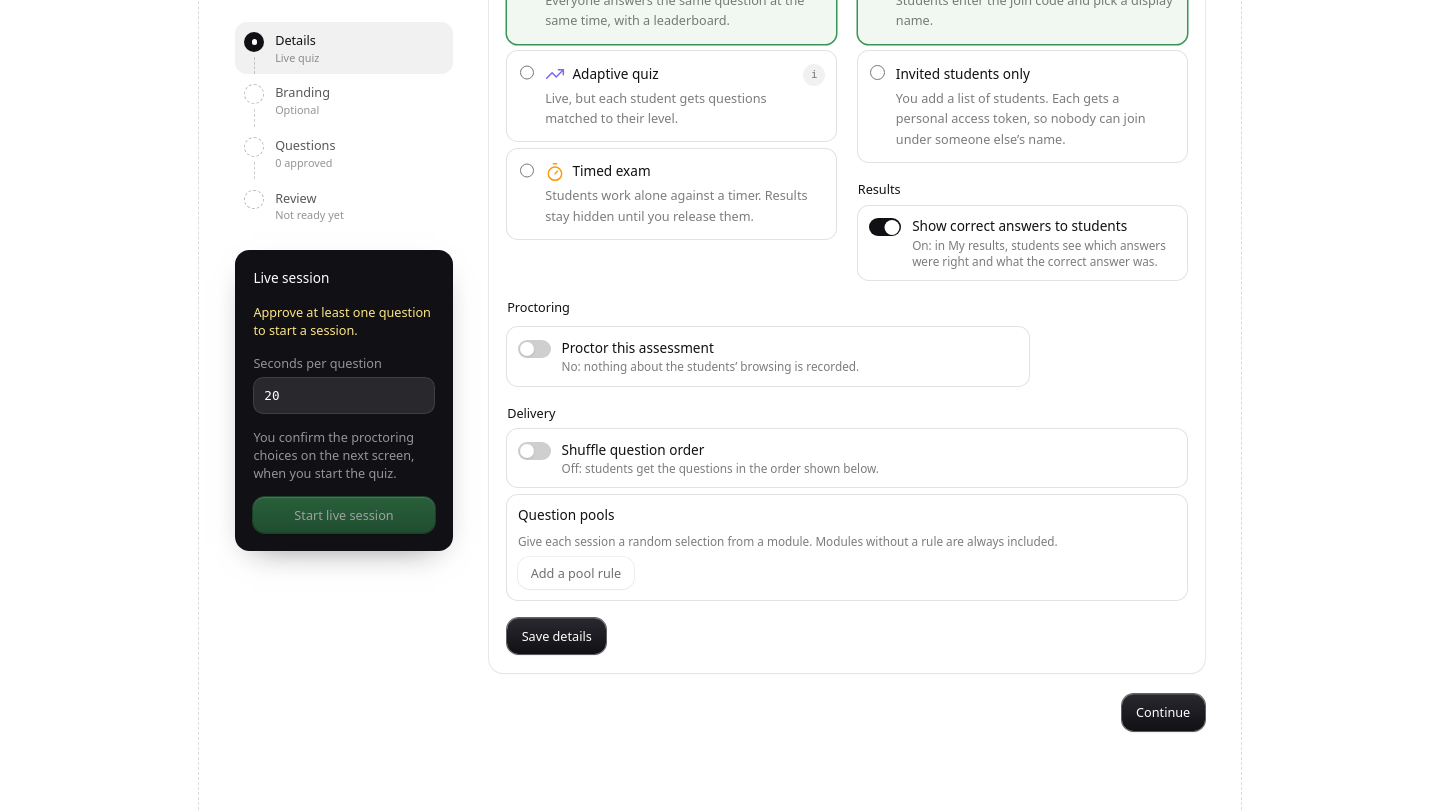
QuizEditor › walks a new quiz through the steps and ends on a review of everything
(page scrolled)
Click the button "Continue" at x=1163, y=712, box top-left (1122, 694), bottom-right (1205, 731)
(page scrolled)
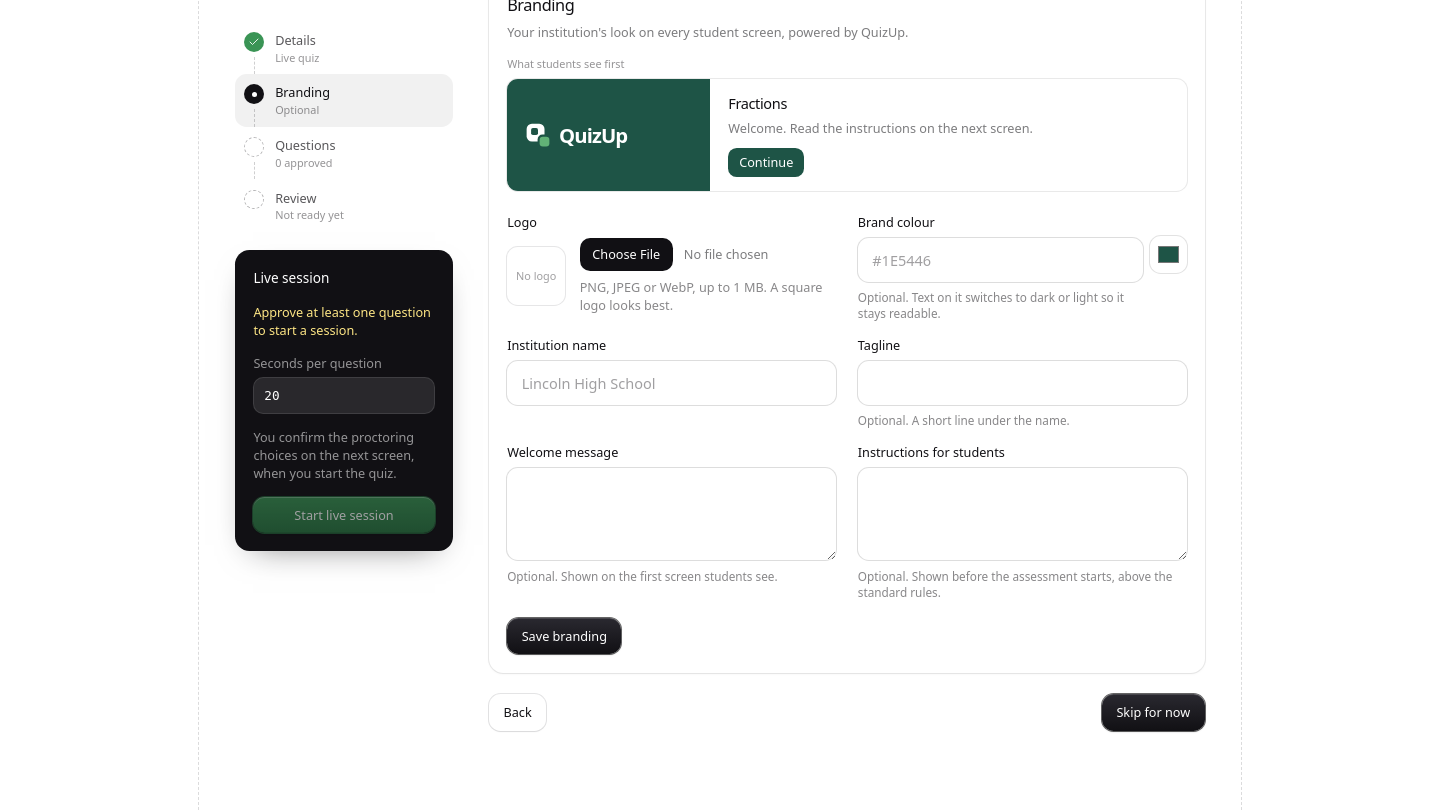
expect the element "Add questions" is not shown: met
Click the button "Skip for now" at x=1153, y=713, box top-left (1102, 694), bottom-right (1205, 731)
(page scrolled)
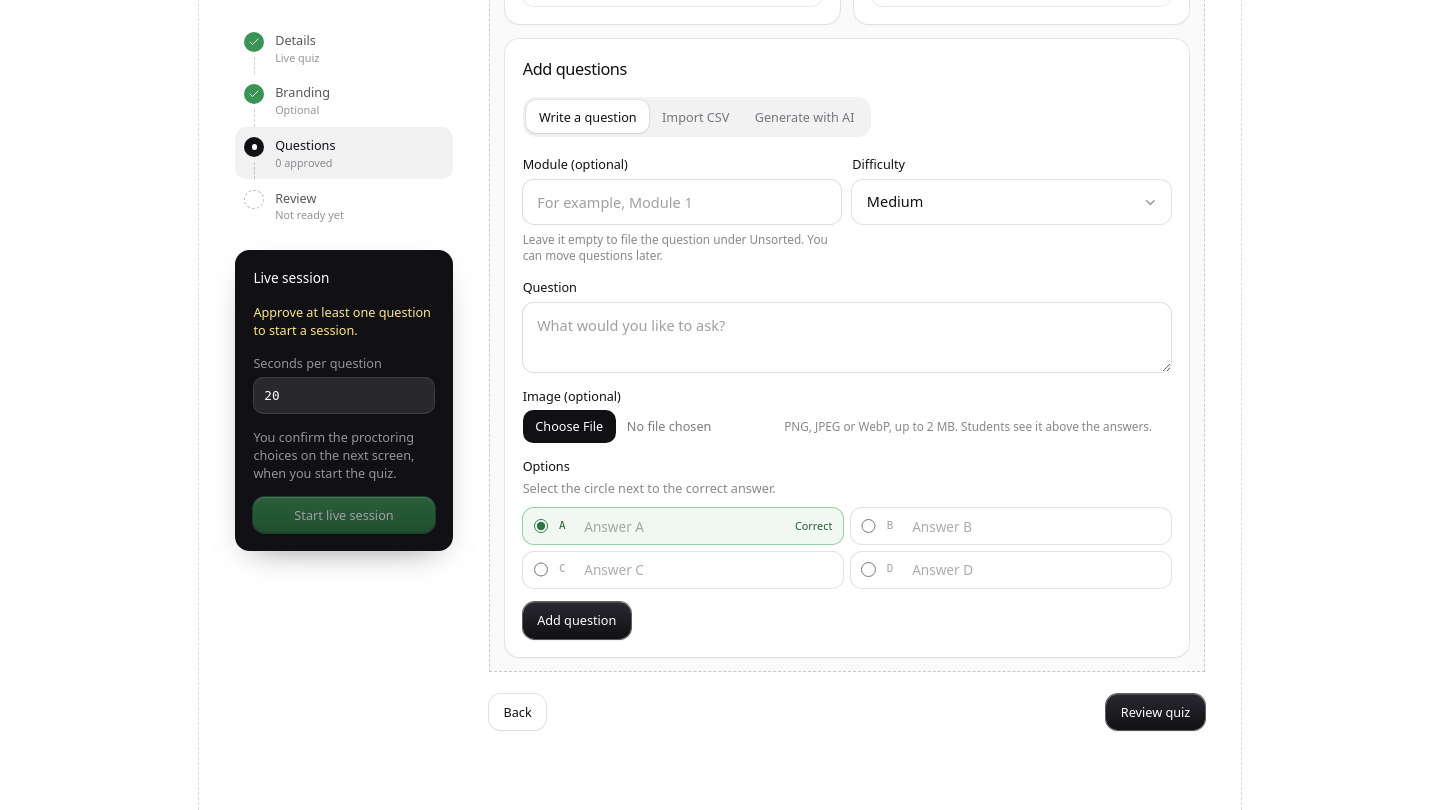
expect the element "Add questions" is shown: met, box top-left (504, 39), bottom-right (1189, 657)
Click the button "Review quiz" at x=1156, y=712, box top-left (1106, 694), bottom-right (1205, 730)
(page scrolled)
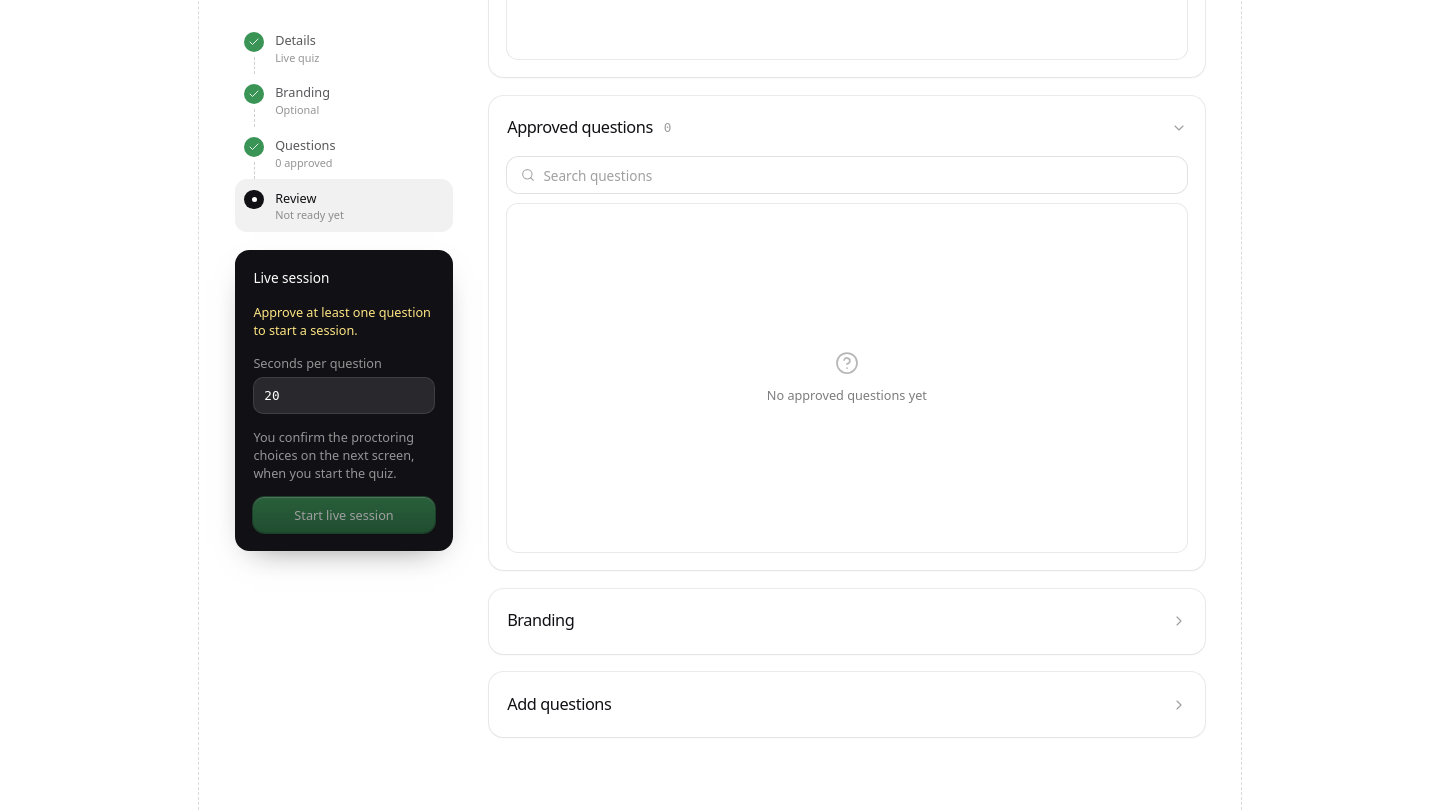
expect the element "Branding" is shown: met, box top-left (489, 588), bottom-right (1205, 654)
